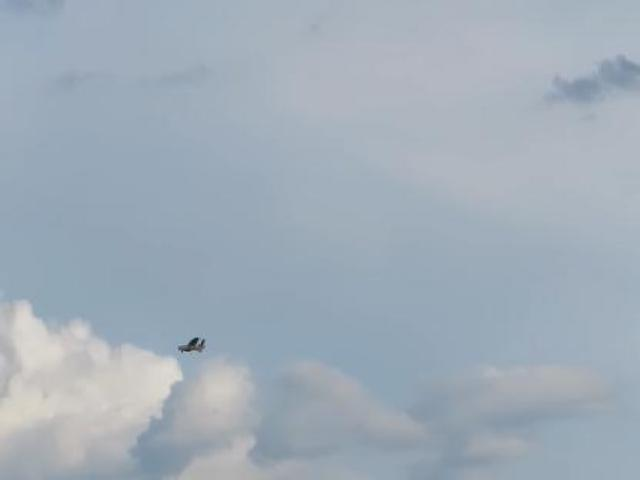uav: (173, 330, 210, 358)
